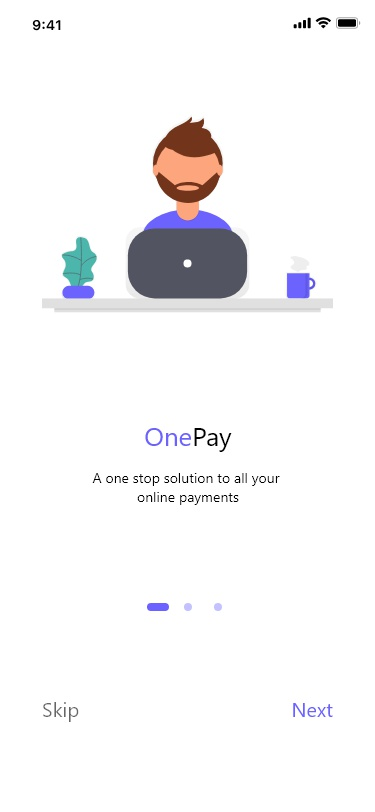Image: (42, 117, 334, 314)
PageIndicator: (147, 602, 224, 612)
Text: (92, 472, 281, 507), (145, 427, 233, 453), (43, 701, 80, 723), (292, 702, 334, 718)
UpperTaskBar: (33, 17, 361, 32)
